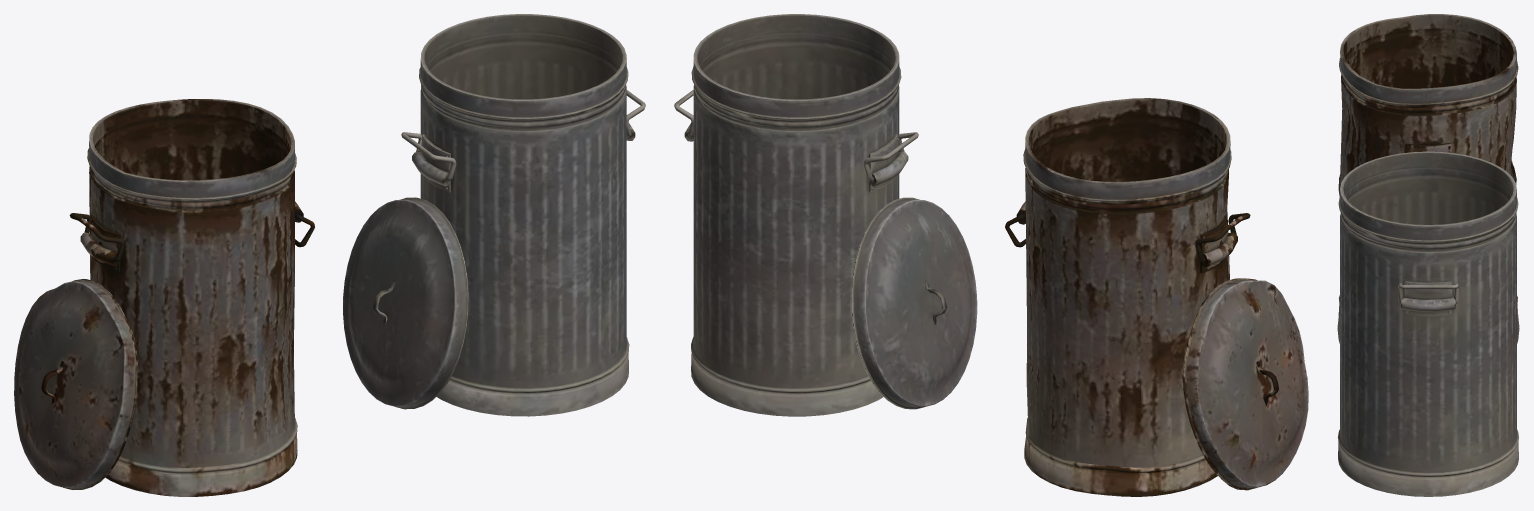
The model's file is metal_trash_can.glb.
3 views of the same model, side by side, from view 1: azimuth 30°, elevation 25°; view 2: azimuth 150°, elevation 25°; view 3: azimuth 270°, elevation 25° (orthographic). The views are drawn at different scales.
Parts seen in each view (by area): view 1: metal_trash_can, metal_trash_can_rust, metal_trash_can_lid, metal_trash_can_rust_lid; view 2: metal_trash_can, metal_trash_can_rust, metal_trash_can_lid, metal_trash_can_rust_lid; view 3: metal_trash_can, metal_trash_can_rust, metal_trash_can_handle_right.
Boxes of the visible parts, left/top/right/bottom form: metal_trash_can: left=412, top=14, right=635, bottom=416; metal_trash_can_rust: left=80, top=99, right=303, bottom=496; metal_trash_can_lid: left=343, top=197, right=468, bottom=409; metal_trash_can_rust_lid: left=14, top=279, right=137, bottom=489; metal_trash_can: left=684, top=14, right=908, bottom=416; metal_trash_can_rust: left=1016, top=98, right=1237, bottom=496; metal_trash_can_lid: left=851, top=197, right=977, bottom=409; metal_trash_can_rust_lid: left=1183, top=278, right=1308, bottom=490; metal_trash_can: left=1337, top=151, right=1518, bottom=496; metal_trash_can_rust: left=1338, top=14, right=1518, bottom=316; metal_trash_can_handle_right: left=1398, top=283, right=1458, bottom=303.
Bounding box in the file's own units: 1.78 × 0.9062 × 0.5543.
2 materials, 2 textured.
